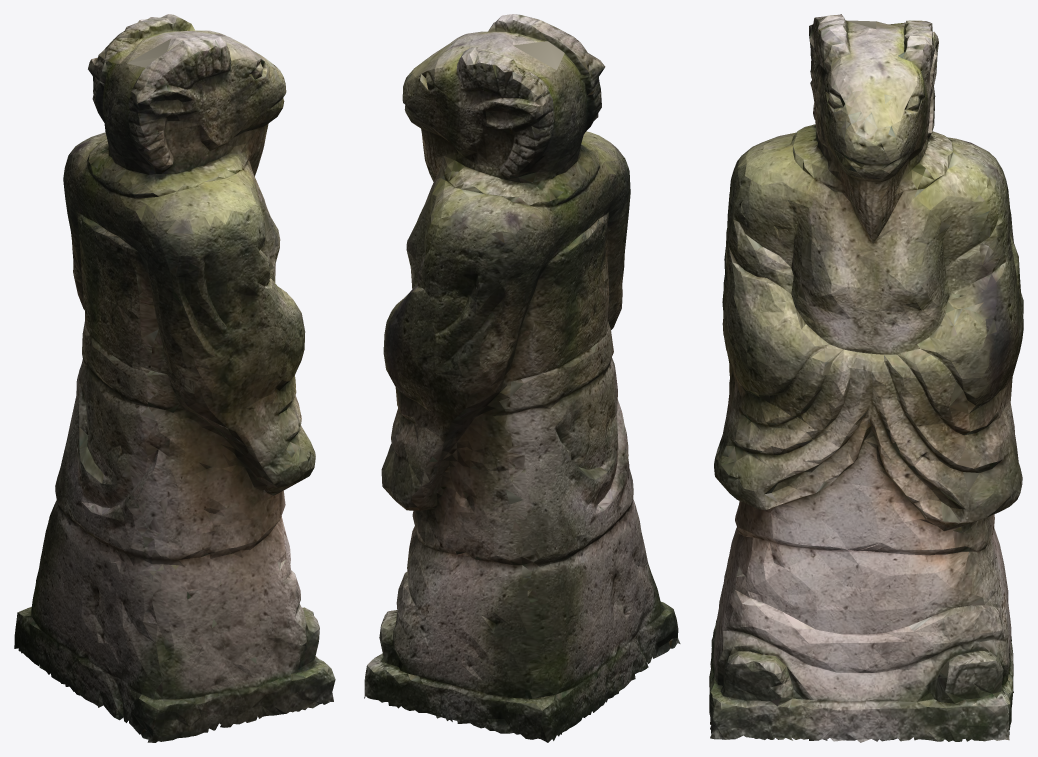
The model's file is stone_goat_LOD0.glb.
3 views of the same model, side by side, from view 1: azimuth 30°, elevation 25°; view 2: azimuth 150°, elevation 25°; view 3: azimuth 270°, elevation 25° (orthographic). The views are drawn at different scales.
Parts seen in each view (by area): view 1: goat; view 2: goat; view 3: goat.
Boxes of the visible parts, bbox=[...] form: goat: bbox=[14, 14, 335, 742]; goat: bbox=[364, 14, 680, 742]; goat: bbox=[709, 14, 1023, 742].
Bounding box in the file's own units: 7.63 × 22.42 × 9.42.
1 material, 1 textured.
